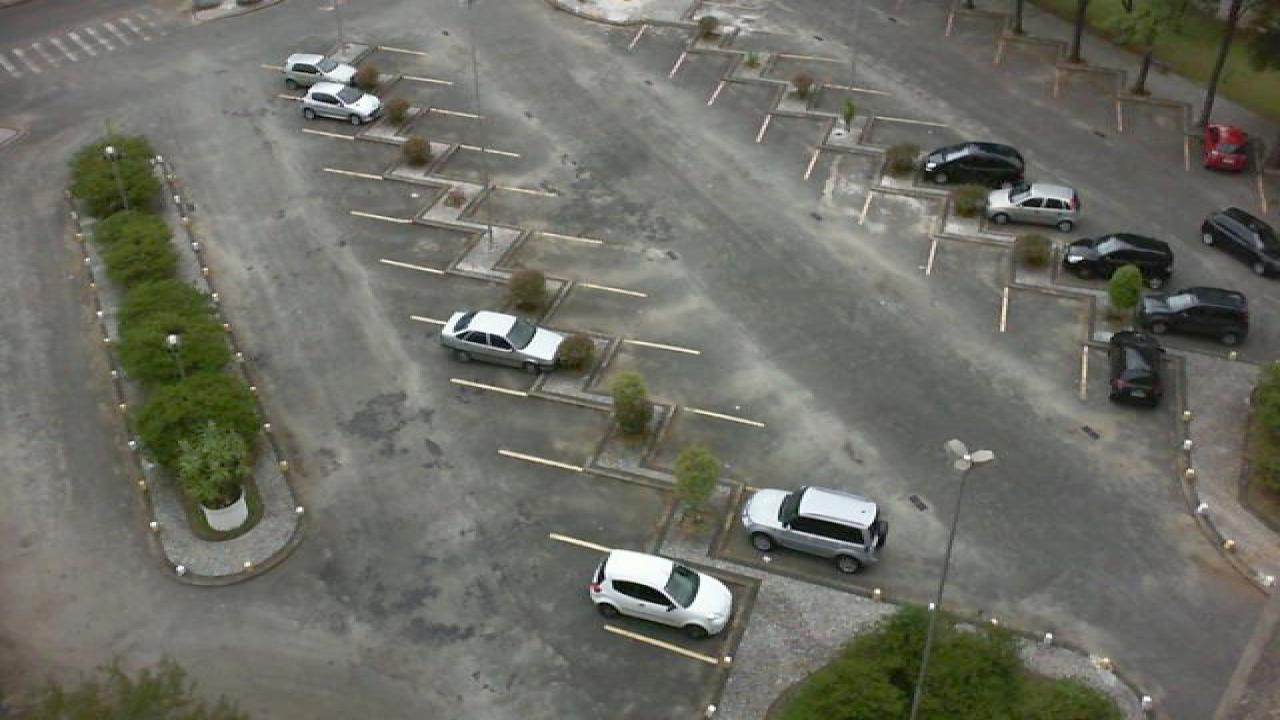Car: (738, 484, 892, 574), (586, 549, 736, 641), (436, 310, 566, 372), (1138, 287, 1254, 344), (1198, 207, 1280, 279), (1058, 233, 1176, 282), (918, 139, 1028, 189), (1104, 329, 1168, 410), (984, 183, 1082, 232), (298, 81, 384, 125), (282, 52, 362, 91), (1198, 120, 1254, 174)
